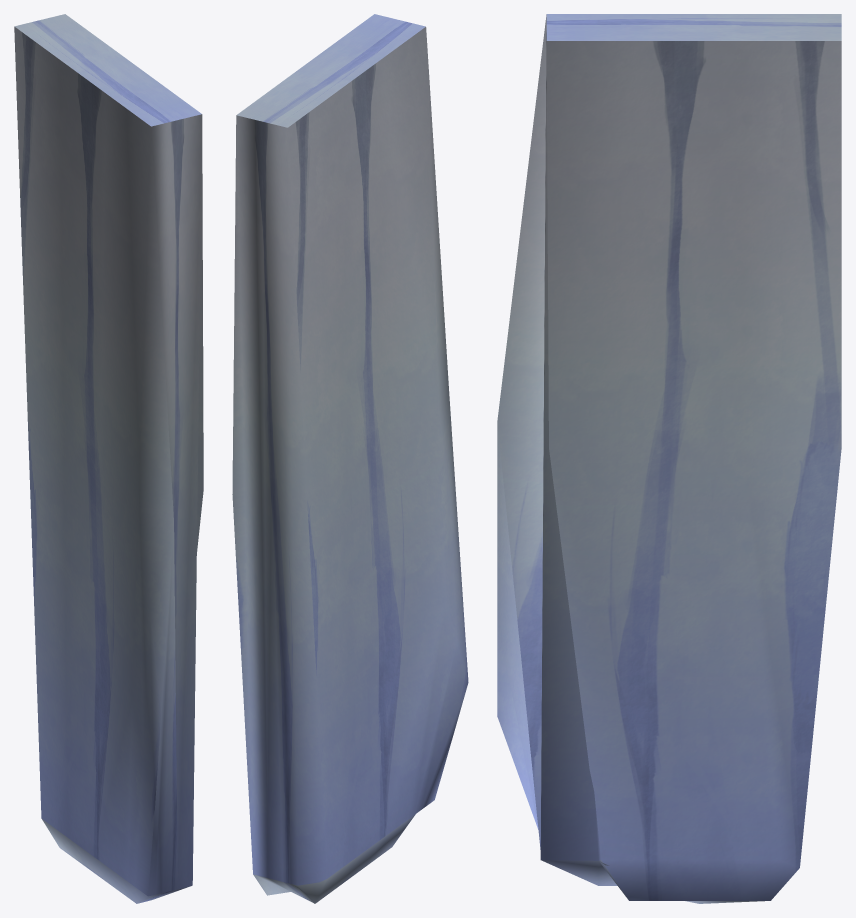
The model's file is rockeroo_small_bald_snatched.glb.
The picture shows the model from 3 angles, left to right: view 1: azimuth 30°, elevation 25°; view 2: azimuth 150°, elevation 25°; view 3: azimuth 270°, elevation 25°; orthographic projection. The views are drawn at different scales.
Parts seen in each view (by area): view 1: rockeroo_small_bald_snatched; view 2: rockeroo_small_bald_snatched; view 3: rockeroo_small_bald_snatched.
Part boxes in pixels (left/top/right/bottom): rockeroo_small_bald_snatched: left=14, top=14, right=203, bottom=903; rockeroo_small_bald_snatched: left=232, top=14, right=468, bottom=903; rockeroo_small_bald_snatched: left=497, top=14, right=841, bottom=903.
Size of the model in its own units: 2.13 by 20.55 by 7.38.
1 material, 1 textured.
